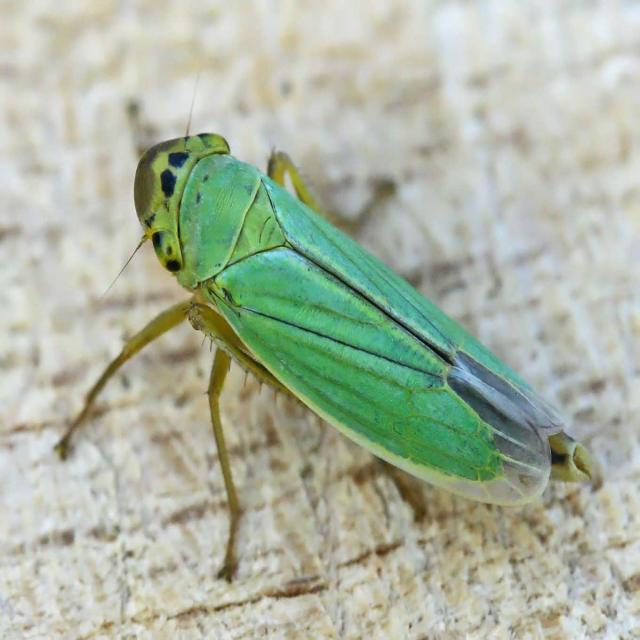Yechan: (110, 119, 601, 546)
